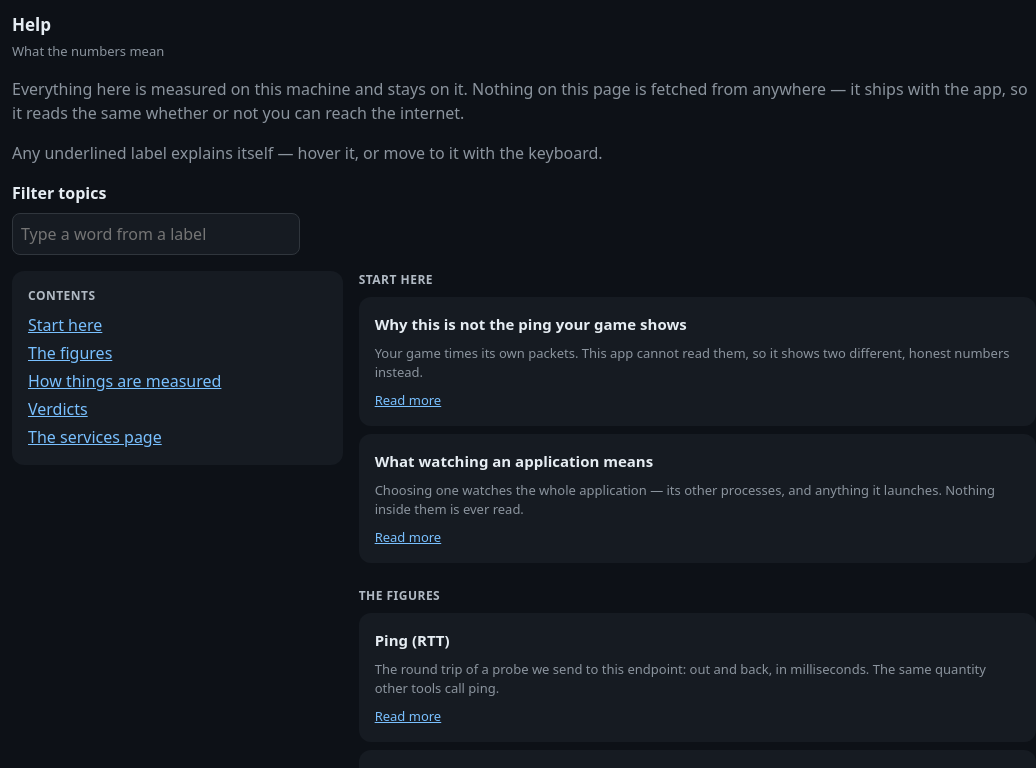
Test: HelpPage › narrows to the topics whose words the reader typed
Type "freeze" into the search field labelled "Filter topics" at {"x": 156, "y": 234}, box [12,213,300,255]
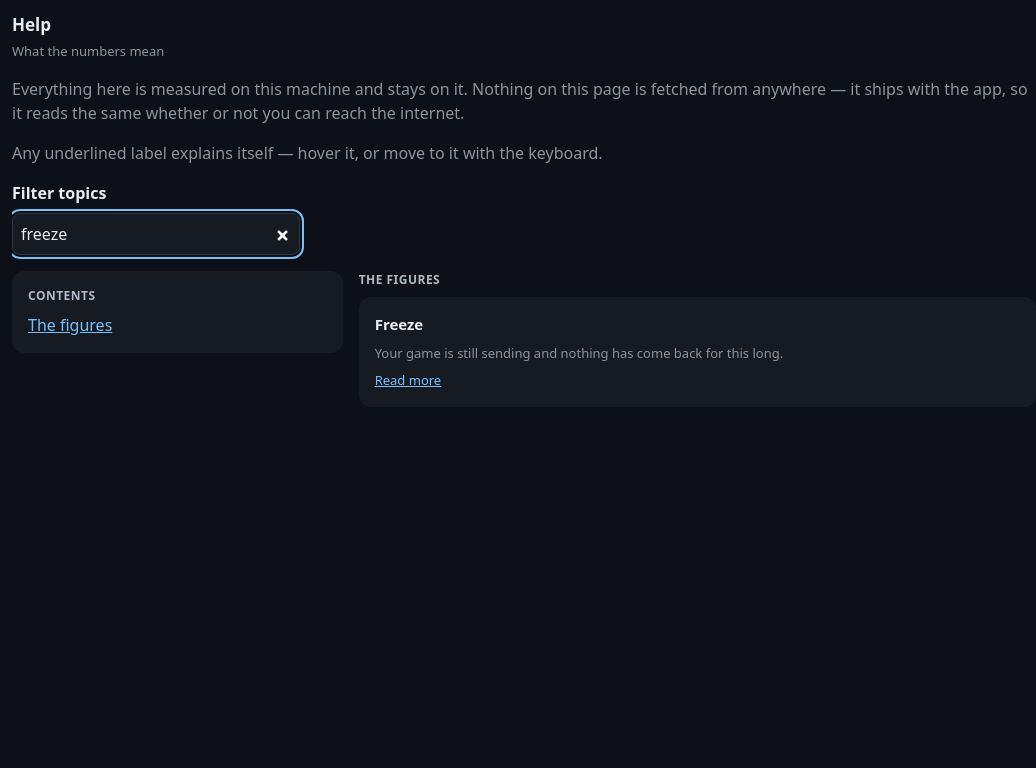
Now the headings read "Freeze", in this order, box [375,314,423,334]
